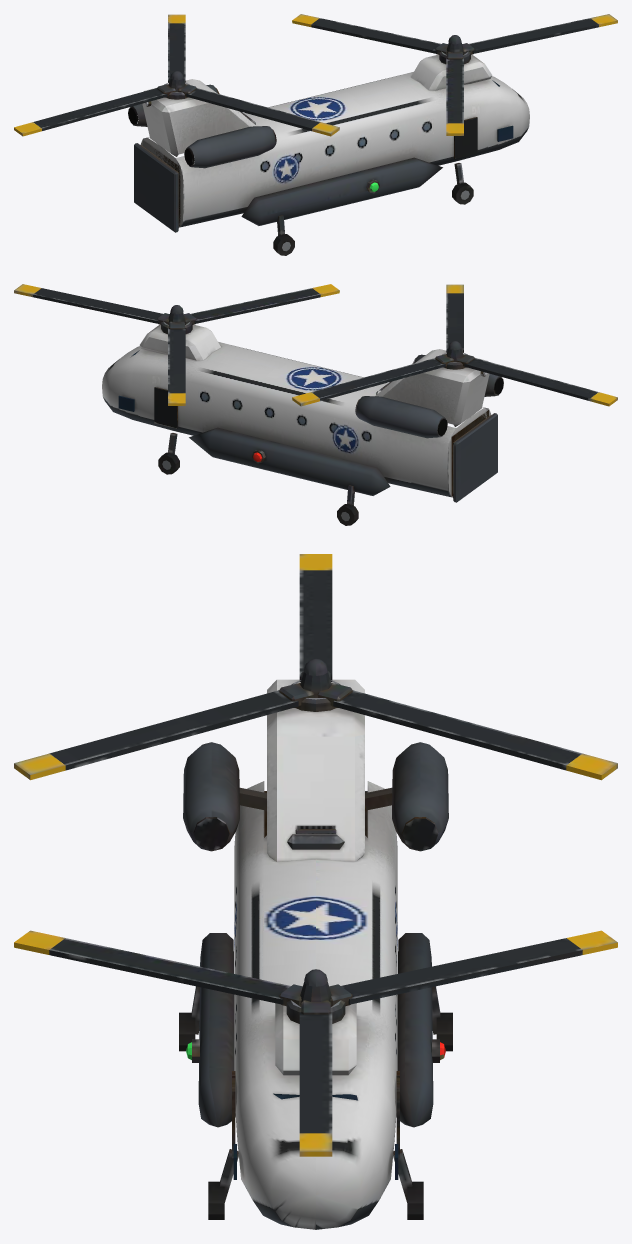
Rendered from tran.allies.glb.
3 views of the same model, one above another, from view 1: azimuth 30°, elevation 25°; view 2: azimuth 150°, elevation 25°; view 3: azimuth 270°, elevation 25° (orthographic). The views are drawn at different scales.
Parts seen in each view (by area): view 1: root_mesh, rotorF_mesh, rotorR_mesh, ramp_mesh; view 2: root_mesh, rotorF_mesh, rotorR_mesh, ramp_mesh; view 3: root_mesh, rotorF_mesh, rotorR_mesh.
Boxes of the visible parts, x1,y1,x2,y2 form: root_mesh: (128, 54, 529, 255); rotorF_mesh: (292, 14, 617, 135); rotorR_mesh: (14, 14, 339, 136); ramp_mesh: (134, 143, 178, 232); root_mesh: (102, 324, 503, 525); rotorF_mesh: (14, 284, 339, 405); rotorR_mesh: (292, 284, 617, 406); ramp_mesh: (453, 413, 497, 502); root_mesh: (179, 679, 452, 1229); rotorF_mesh: (14, 930, 617, 1156); rotorR_mesh: (14, 554, 617, 780).
Size of the model in its own units: 1.56 by 0.4391 by 0.7407.
Materials: 2 (1 with a texture image).
